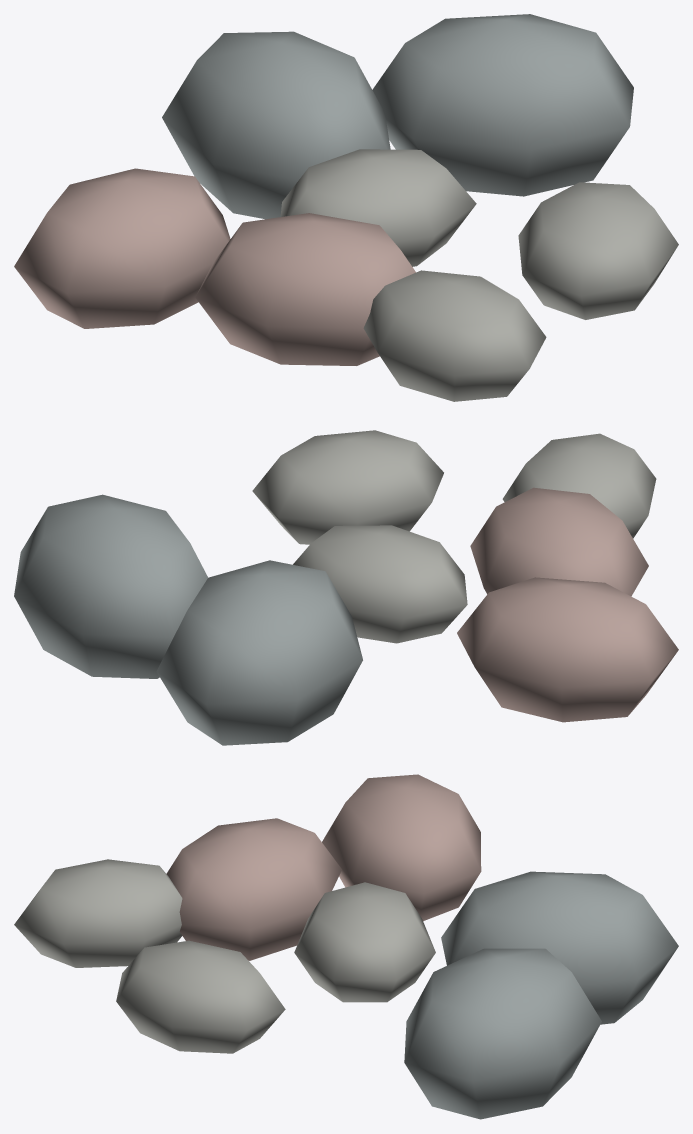
The model's file is pebble-cluster.glb.
The picture shows the model from 3 angles, top to bottom: view 1: azimuth 30°, elevation 25°; view 2: azimuth 150°, elevation 25°; view 3: azimuth 270°, elevation 25°; orthographic projection. The views are drawn at different scales.
Visible parts, largest first — view 1: pebble-cluster; view 2: pebble-cluster; view 3: pebble-cluster.
Part boxes in pixels (x1,y1,x2,y2): pebble-cluster: (14, 14, 678, 401); pebble-cluster: (14, 430, 678, 745); pebble-cluster: (14, 774, 678, 1119).
Bounding box in the file's own units: 0.6 × 0.15 × 0.6086.
